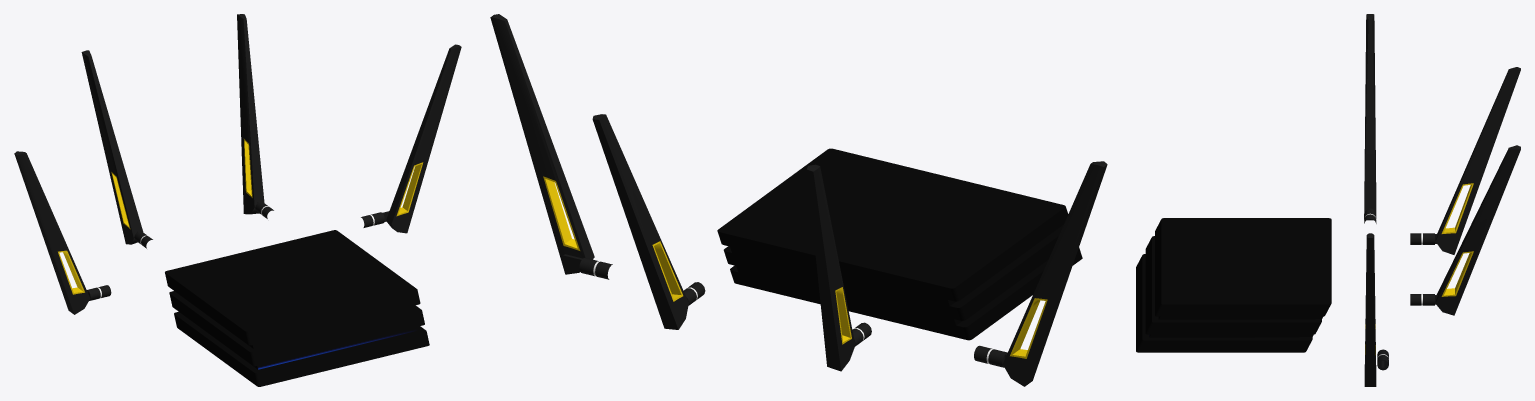
The model's file is PLASHSPEED.glb.
3 views of the same model, side by side, from view 1: azimuth 30°, elevation 25°; view 2: azimuth 150°, elevation 25°; view 3: azimuth 270°, elevation 25° (orthographic). The views are drawn at different scales.
Visible parts, largest first — view 1: psBox, attennaStick1, attennaStick2, attennaStick, attennaStick3; view 2: psBox, attennaStick1, attennaStick, attennaStick2, attennaStick3; view 3: psBox, attennaStick3, attennaStick2, attennaStick, attennaStick1.
Part boxes in pixels (x1,y1,x2,y2): psBox: (165,230,429,386); attennaStick1: (386,44,461,233); attennaStick2: (237,14,264,214); attennaStick: (14,151,90,314); attennaStick3: (81,50,143,244); psBox: (717,148,1082,340); attennaStick1: (490,14,594,274); attennaStick: (1002,161,1107,386); attennaStick2: (592,114,688,329); attennaStick3: (806,164,855,371); psBox: (1136,218,1331,352); attennaStick3: (1435,67,1520,254); attennaStick2: (1435,145,1520,315); attennaStick: (1364,14,1376,220); attennaStick1: (1364,233,1376,386).
Size of the model in its own units: 405 by 172 by 294.
Materials: 4 (1 with a texture image).
